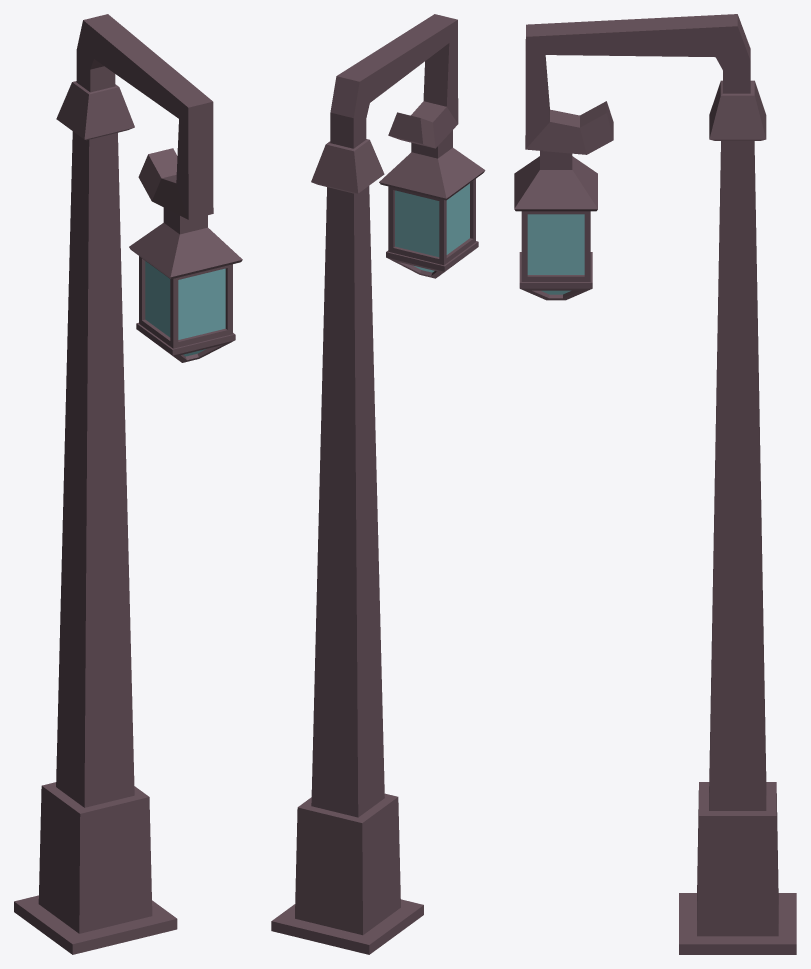
File: lamppost.fbx
3 views of the same model, side by side, from view 1: azimuth 30°, elevation 25°; view 2: azimuth 150°, elevation 25°; view 3: azimuth 270°, elevation 25° (orthographic). The views are drawn at different scales.
Parts seen in each view (by area): view 1: lamppost; view 2: lamppost; view 3: lamppost.
Boxes of the visible parts, x1,y1,x2,y2 form: lamppost: (14,14,242,954); lamppost: (271,14,485,954); lamppost: (514,14,796,954).
Size of the model in its own units: 48.09 by 396 by 112.
